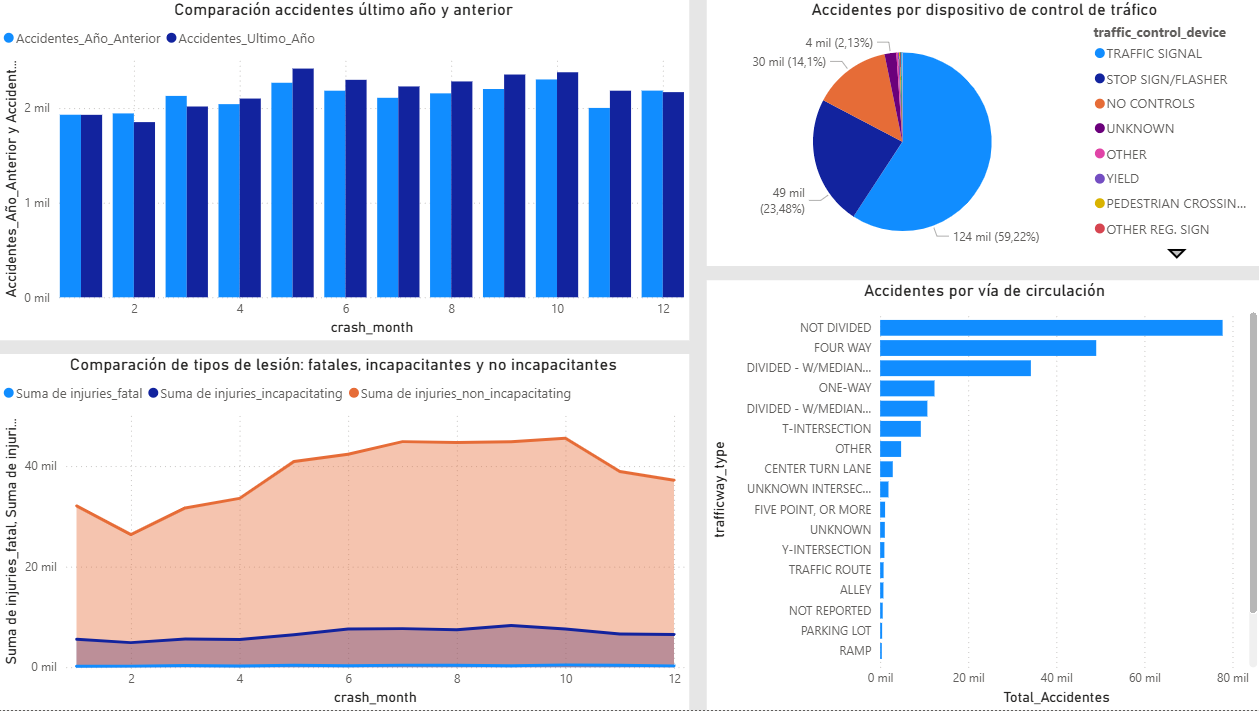

What the dashboard file says about the page in this screenshot:
{"tool":"powerbi","page":{"name":"Página 2","canvas":[1280,720],"ordinal":1},"visuals":[{"type":"clusteredColumnChart","title":"Comparación accidentes último año y anterior","fields":{"Category":["traffic_accidents.crash_month","traffic_accidents.Año_Accidente"],"Y":["traffic_accidents.Accidentes_Año_Anterior","traffic_accidents.Accidentes_Ultimo_Año"]},"box":[0,0,699.8,345.8],"z":0},{"type":"pieChart","title":"Accidentes por dispositivo de control de tráfico","fields":{"Y":["traffic_accidents.Total_Accidentes"],"Category":["traffic_accidents.traffic_control_device"]},"box":[717.7,0,562.6,270.3],"z":1000},{"type":"areaChart","title":"Comparación de tipos de lesión: fatales, incapacitantes y no incapacitantes","fields":{"Category":["traffic_accidents.crash_month"],"Y":["Sum(traffic_accidents.injuries_fatal)","Sum(traffic_accidents.injuries_incapacitating)","Sum(traffic_accidents.injuries_non_incapacitating)"]},"box":[0,359.5,699.8,360.9],"z":2000},{"type":"barChart","title":"Accidentes por vía de circulación","fields":{"Category":["traffic_accidents.trafficway_type"],"Y":["traffic_accidents.Total_Accidentes"]},"box":[717.7,285.4,562.6,435],"z":3000}]}

Visuals, with their boxes in screenshot pixels (x1, y1, x2, y2), scaled from the page's 1280x720 canvas onto the 1259x711 screenshot:
"Comparación accidentes último año y anterior" clusteredColumnChart: locate(0, 0, 688, 341)
"Accidentes por dispositivo de control de tráfico" pieChart: locate(706, 0, 1258, 267)
"Comparación de tipos de lesión: fatales, incapacitantes y no incapacitantes" areaChart: locate(0, 355, 688, 710)
"Accidentes por vía de circulación" barChart: locate(706, 282, 1258, 710)
